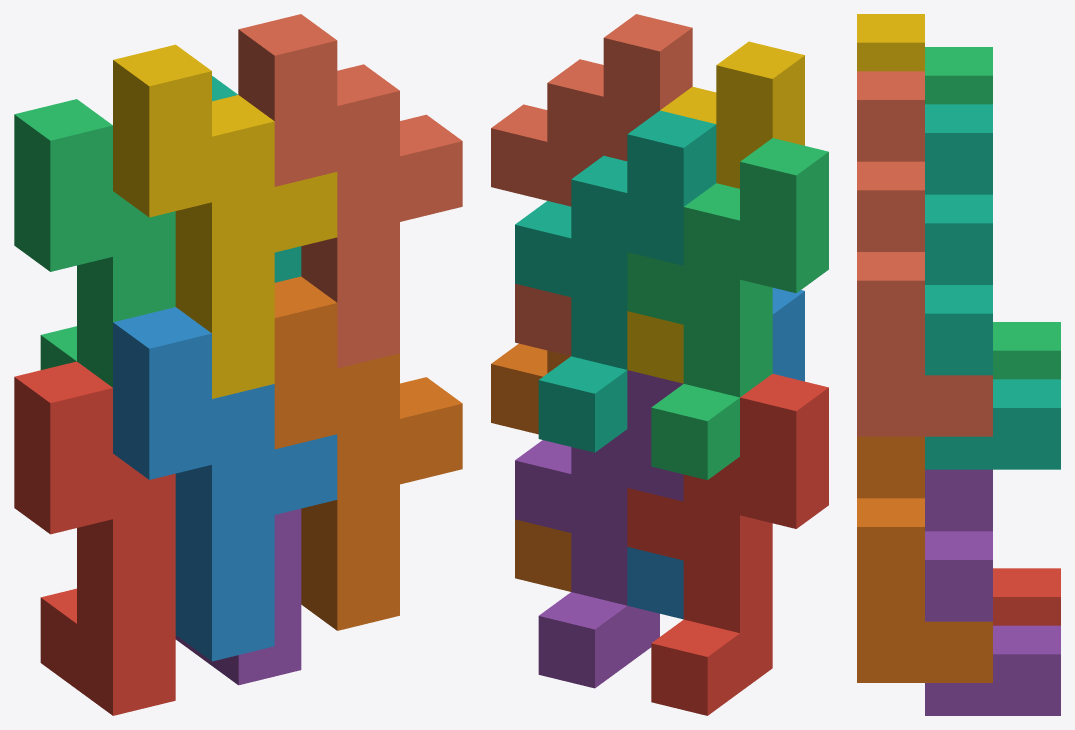
The model's file is tiling.obj.
3 renders of one model, left to right at view 1: azimuth 30°, elevation 25°; view 2: azimuth 150°, elevation 25°; view 3: azimuth 270°, elevation 25°, orthographic. The views are drawn at different scales.
Visible parts, largest first — view 1: copy_1_domain_2, copy_1_domain_4, copy_1_domain_1, copy_1_domain_8, copy_1_domain_6, copy_1_domain_3, copy_1_domain_5, copy_1_domain_7; view 2: copy_1_domain_3, copy_1_domain_1, copy_1_domain_7, copy_1_domain_5, copy_1_domain_8, copy_1_domain_4, copy_1_domain_6, copy_1_domain_2; view 3: copy_1_domain_8, copy_1_domain_7, copy_1_domain_6, copy_1_domain_5, copy_1_domain_3, copy_1_domain_1, copy_1_domain_4.
Boxes of the visible parts, x1=… form: copy_1_domain_2: x1=113, y1=307, x2=337, y2=661; copy_1_domain_4: x1=113, y1=44, x2=337, y2=398; copy_1_domain_1: x1=14, y1=361, x2=175, y2=715; copy_1_domain_8: x1=238, y1=14, x2=462, y2=368; copy_1_domain_6: x1=274, y1=276, x2=462, y2=630; copy_1_domain_3: x1=14, y1=99, x2=175, y2=387; copy_1_domain_5: x1=175, y1=508, x2=301, y2=685; copy_1_domain_7: x1=212, y1=76, x2=301, y2=282; copy_1_domain_3: x1=627, y1=138, x2=828, y2=479; copy_1_domain_1: x1=627, y1=373, x2=828, y2=715; copy_1_domain_7: x1=515, y1=110, x2=716, y2=452; copy_1_domain_5: x1=515, y1=370, x2=683, y2=688; copy_1_domain_8: x1=491, y1=14, x2=692, y2=355; copy_1_domain_4: x1=627, y1=41, x2=804, y2=383; copy_1_domain_6: x1=491, y1=343, x2=571, y2=591; copy_1_domain_2: x1=627, y1=287, x2=804, y2=619; copy_1_domain_8: x1=857, y1=71, x2=992, y2=436; copy_1_domain_7: x1=925, y1=104, x2=1060, y2=469; copy_1_domain_6: x1=857, y1=436, x2=992, y2=682; copy_1_domain_5: x1=925, y1=469, x2=1060, y2=715; copy_1_domain_3: x1=925, y1=47, x2=1060, y2=379; copy_1_domain_1: x1=993, y1=568, x2=1060, y2=625; copy_1_domain_4: x1=857, y1=14, x2=924, y2=71.
Bounding box in the file's own units: 6 × 10 × 3.
